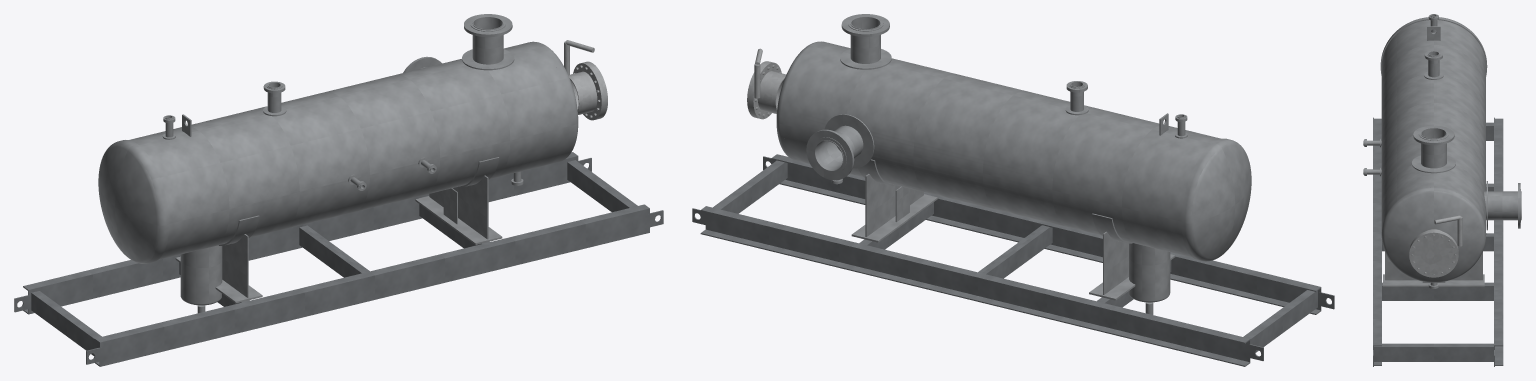
The model's file is knock-out-drum.glb.
The picture shows the model from 3 angles, left to right: view 1: azimuth 30°, elevation 25°; view 2: azimuth 150°, elevation 25°; view 3: azimuth 270°, elevation 25°; orthographic projection. The views are drawn at different scales.
Visible parts, largest first — view 1: Shell, SkidFrame, DishedHeads, SaddleSupports, Nozzles, LiquidBoot, Manway&Davit; view 2: Shell, SkidFrame, DishedHeads, Nozzles, SaddleSupports, LiquidBoot, Manway&Davit; view 3: Shell, SkidFrame, DishedHeads, Nozzles, Manway&Davit, SaddleSupports, LiftingLugs.
Part boxes in pixels (left/top/right/bottom): Shell: left=129, top=42, right=574, bottom=259; SkidFrame: left=14, top=152, right=663, bottom=366; DishedHeads: left=98, top=41, right=578, bottom=263; SaddleSupports: left=175, top=157, right=502, bottom=303; Nozzles: left=162, top=14, right=523, bottom=190; LiquidBoot: left=180, top=245, right=222, bottom=313; Manway&Davit: left=564, top=40, right=607, bottom=120; Shell: left=780, top=41, right=1221, bottom=257; SkidFrame: left=692, top=154, right=1334, bottom=366; DishedHeads: left=776, top=41, right=1251, bottom=261; Nozzles: left=806, top=14, right=1187, bottom=184; SaddleSupports: left=851, top=159, right=1175, bottom=300; LiquidBoot: left=1129, top=243, right=1170, bottom=314; Manway&Davit: left=747, top=48, right=786, bottom=119; Shell: left=1381, top=20, right=1485, bottom=231; SkidFrame: left=1373, top=117, right=1503, bottom=366; DishedHeads: left=1380, top=17, right=1487, bottom=282; Nozzles: left=1363, top=14, right=1521, bottom=288; Manway&Davit: left=1409, top=215, right=1462, bottom=277; SaddleSupports: left=1383, top=252, right=1484, bottom=286; LiftingLugs: left=1427, top=26, right=1440, bottom=40.
Bounding box in the file's own units: 9.86 × 3.81 × 2.77.
Materials: 3 (3 with a texture image).
